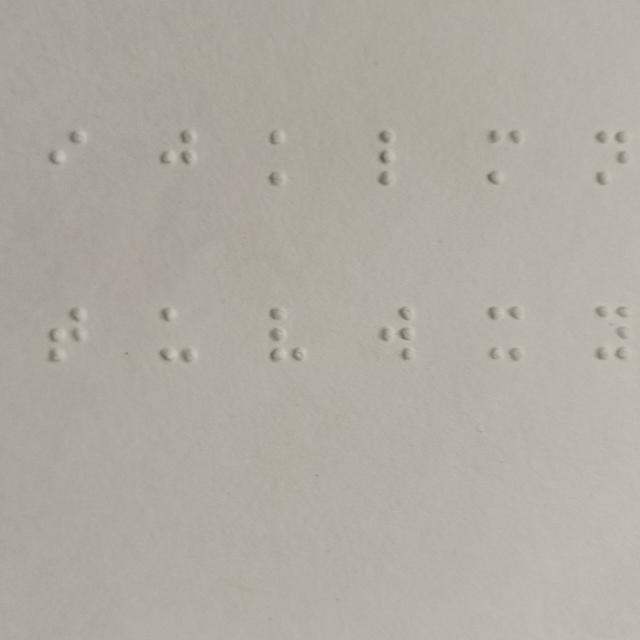i: (51, 130, 87, 185)
j: (159, 129, 195, 184)
k: (268, 131, 305, 185)
l: (377, 131, 414, 185)
m: (487, 130, 524, 185)
n: (594, 132, 630, 186)
t: (48, 306, 87, 363)
u: (157, 308, 198, 363)
v: (267, 307, 308, 362)
w: (374, 307, 415, 362)
x: (486, 307, 525, 362)
y: (594, 305, 632, 360)
